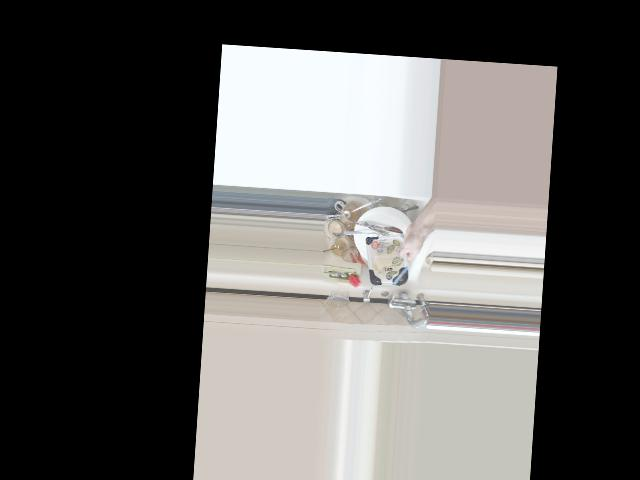cheese: (364, 224, 424, 291)
